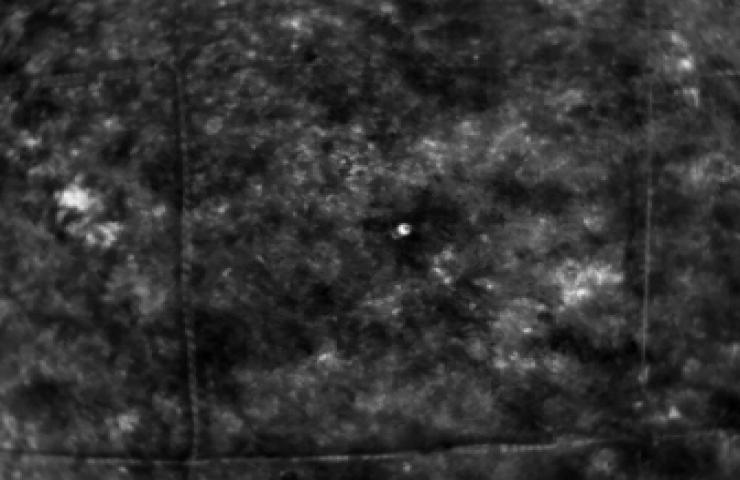landmines: (389, 222, 414, 244)
